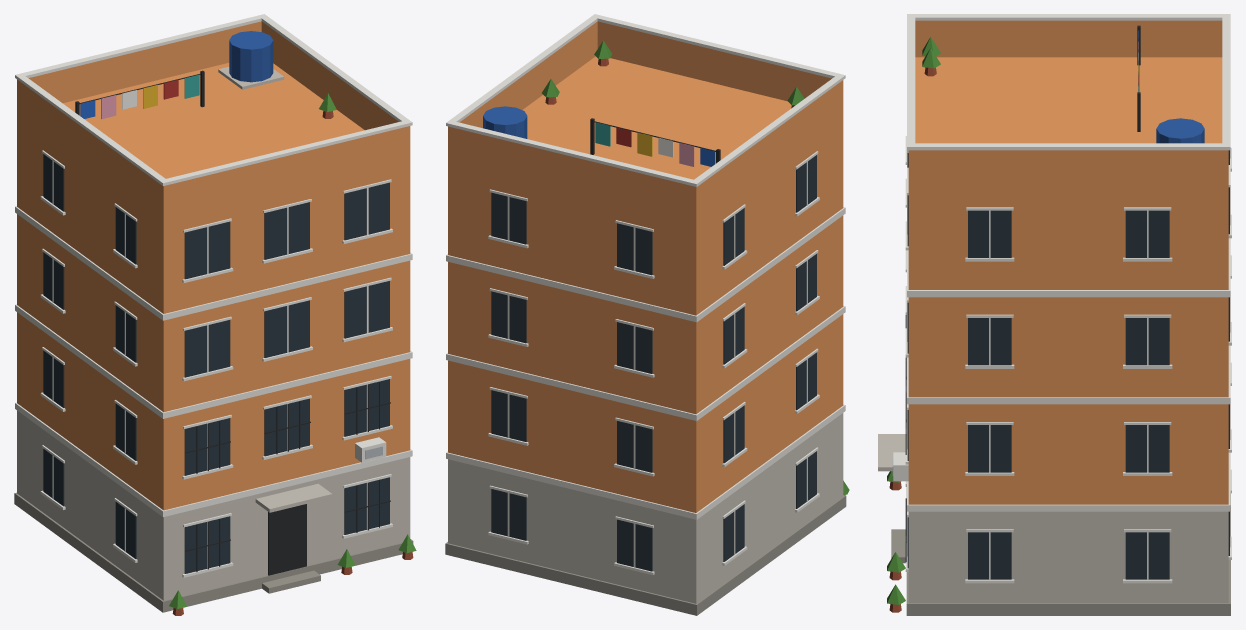
Rendered from BAY_F_Tower_T.glb.
3 views of the same model, side by side, from view 1: azimuth 30°, elevation 25°; view 2: azimuth 150°, elevation 25°; view 3: azimuth 270°, elevation 25° (orthographic). The views are drawn at different scales.
Visible parts, largest first — view 1: BAY_F_Tower_T; view 2: BAY_F_Tower_T; view 3: BAY_F_Tower_T.
Boxes of the visible parts, left/top/right/bottom form: BAY_F_Tower_T: left=14, top=14, right=416, bottom=615; BAY_F_Tower_T: left=445, top=14, right=849, bottom=615; BAY_F_Tower_T: left=878, top=14, right=1231, bottom=615.
Size of the model in its own units: 7.24 by 11.8 by 8.07.
1 material, 1 textured.
